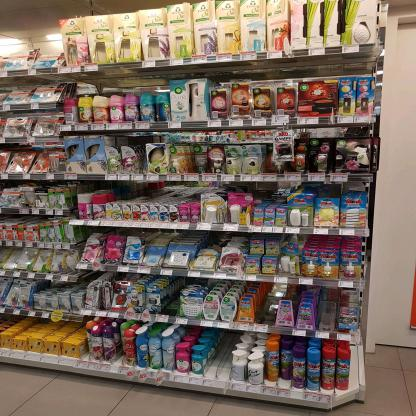Void: (101, 75, 164, 89), (121, 182, 164, 196), (220, 334, 232, 379), (168, 286, 177, 318)
